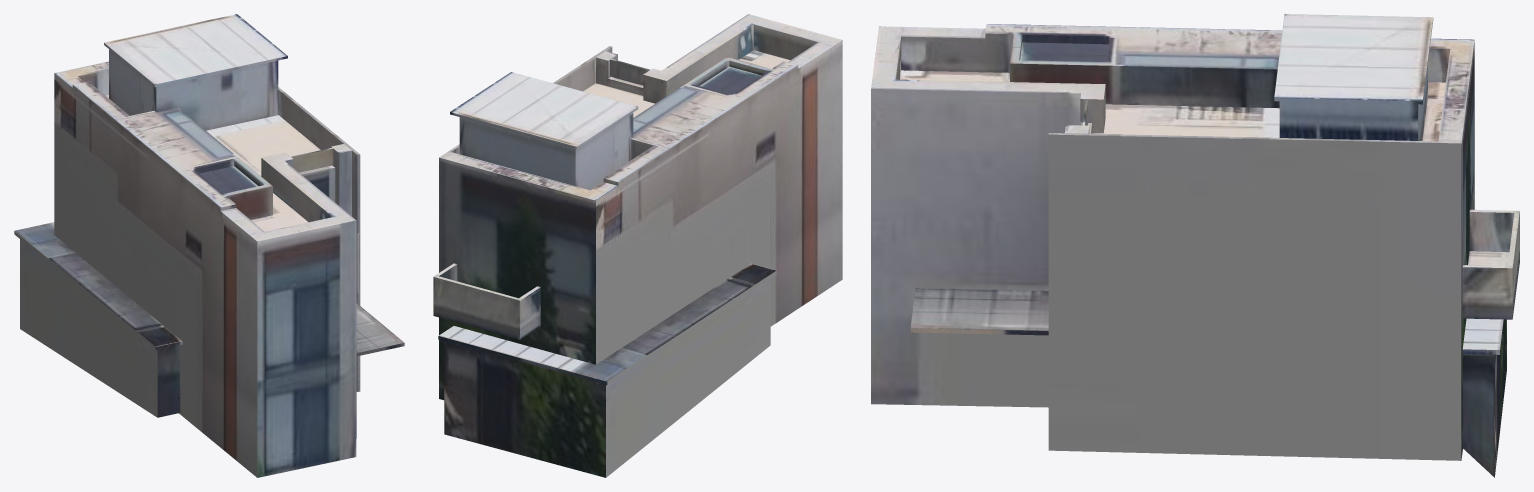
3 renders of one model, left to right at view 1: azimuth 30°, elevation 25°; view 2: azimuth 150°, elevation 25°; view 3: azimuth 270°, elevation 25°, orthographic. The views are drawn at different scales.
Parts seen in each view (by area): view 1: B285574033701062A0; view 2: B285574033701062A0; view 3: B285574033701062A0.
Part boxes in pixels (x1,y1,x2,y2): B285574033701062A0: (14,14,404,477); B285574033701062A0: (433,14,842,477); B285574033701062A0: (871,14,1519,477).
Size of the model in its own units: 7.83 by 10.85 by 16.34.
1 material, 1 textured.
